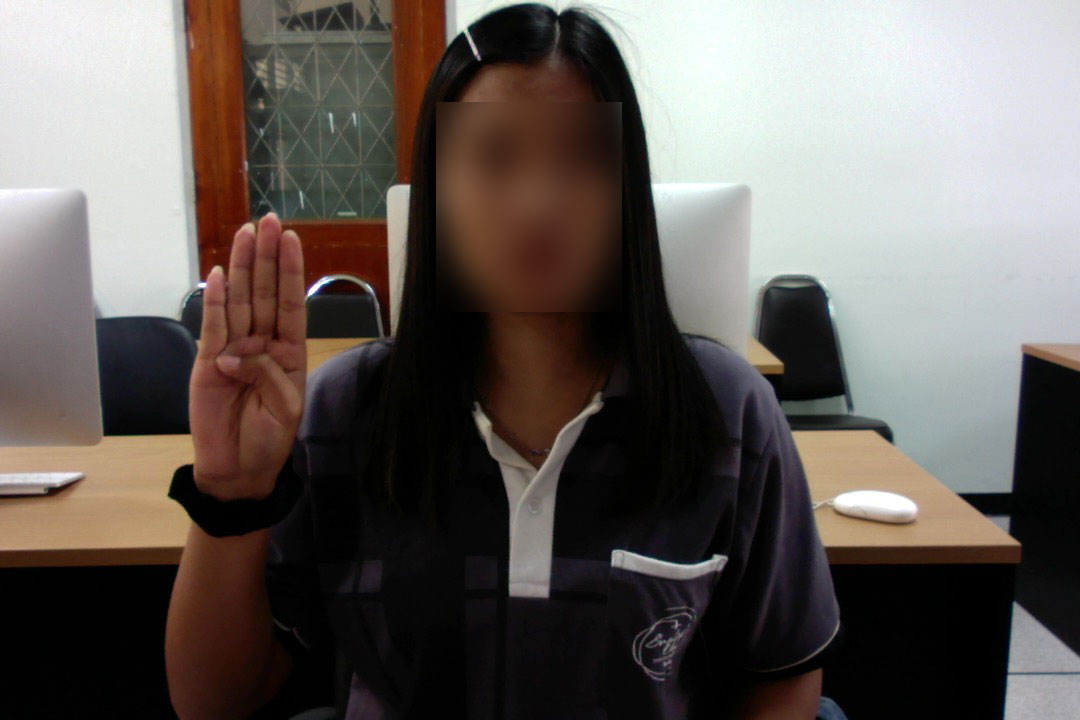bor: (184, 206, 315, 491)
